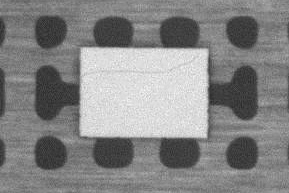DIE_CRACK: (81, 55, 196, 79)
